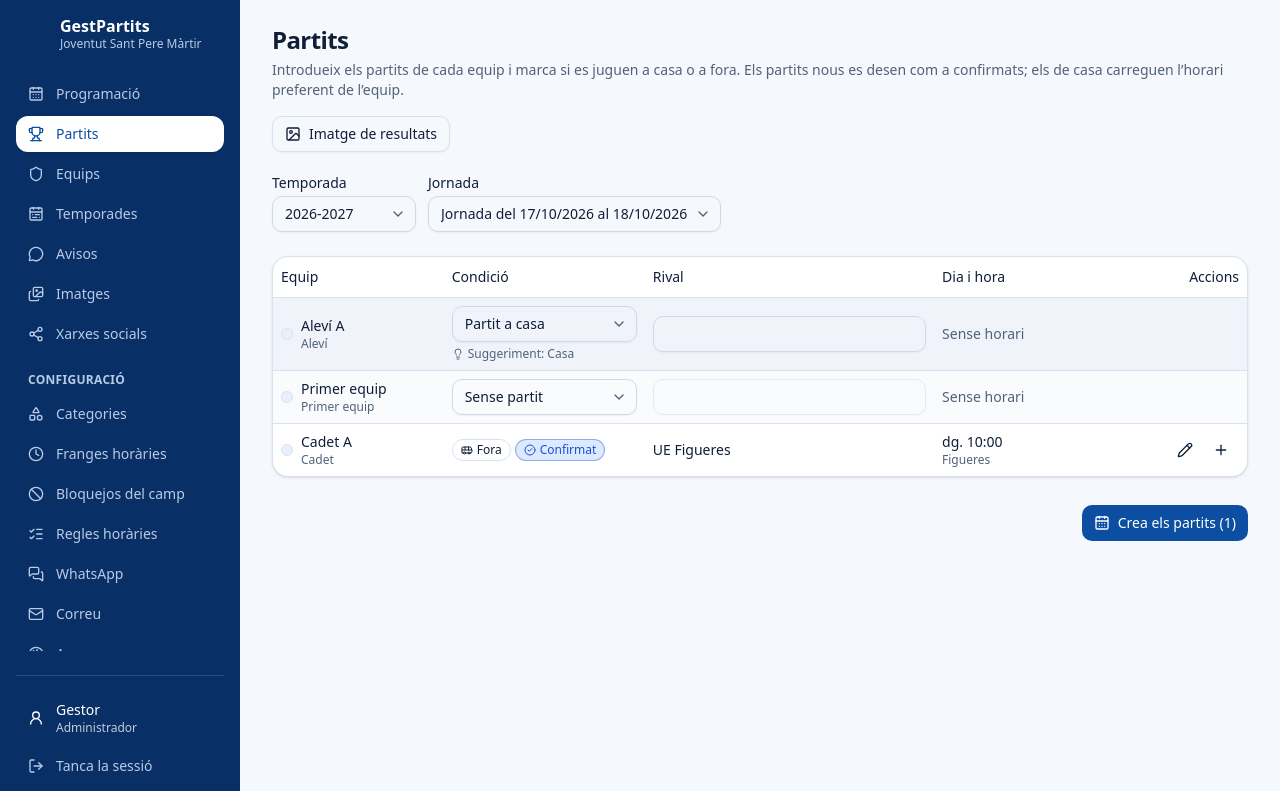
Test: panell del partit › mostra les dades de la instal·lació per als partits a fora
Click the button named "Edita el partit: Cadet A" at (1185, 450), box [1167, 432, 1203, 468]
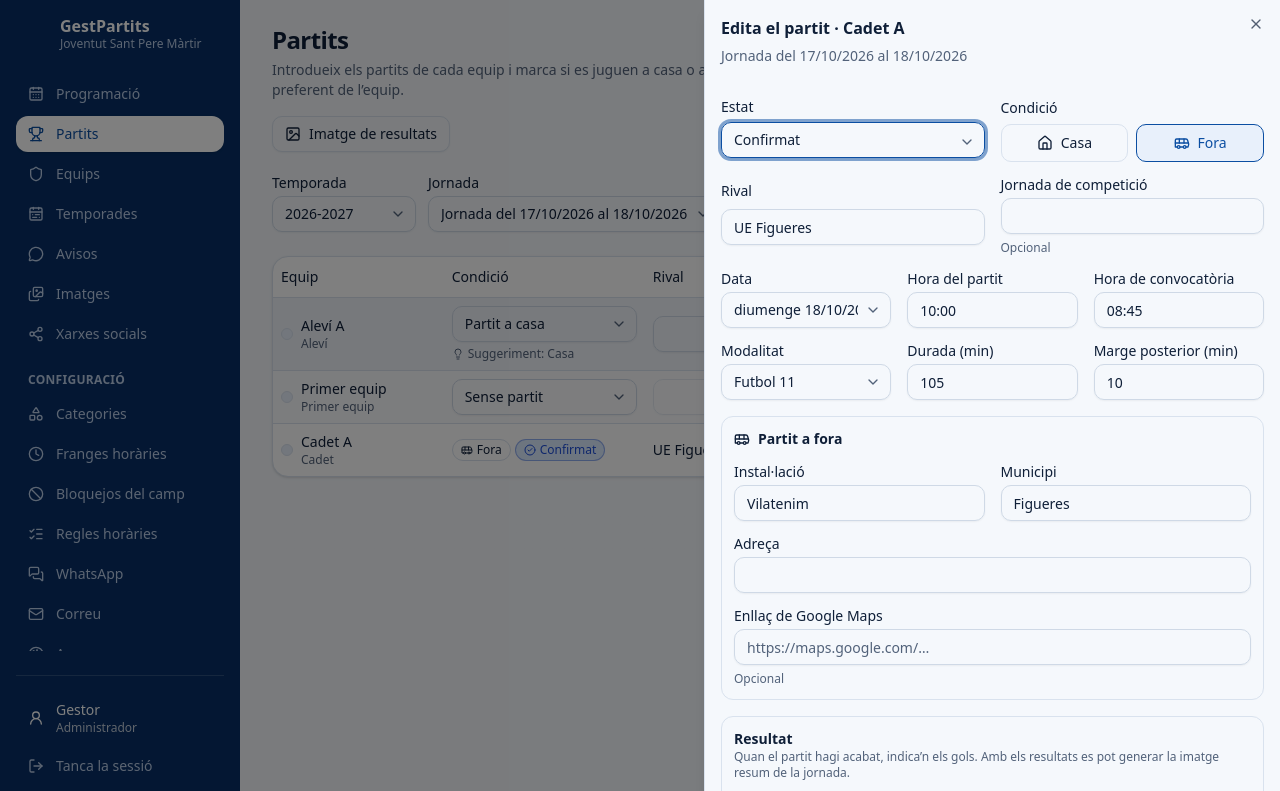
expect the field labelled "Instal·lació" holds "Vilatenim": met, box [734, 485, 984, 521]
expect the field labelled "Municipi" holds "Figueres": met, box [1000, 485, 1251, 521]
